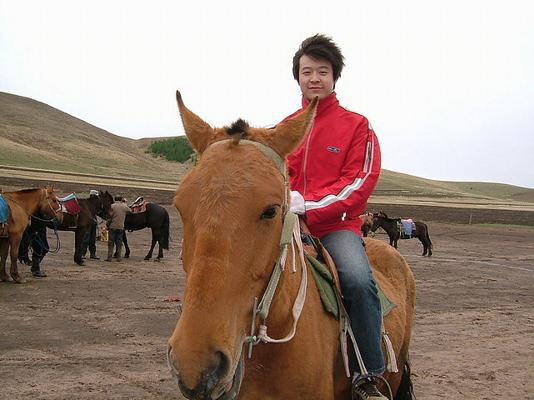person: (275, 34, 389, 400)
